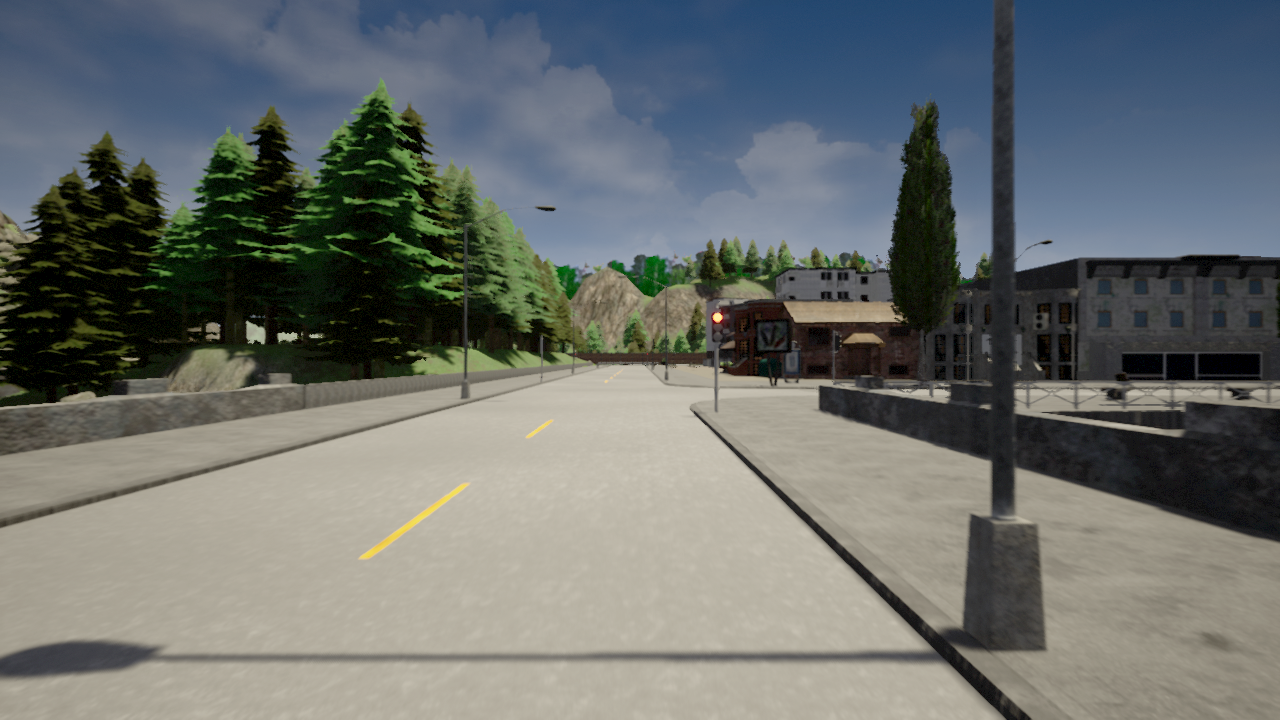red: (710, 309, 723, 343)
